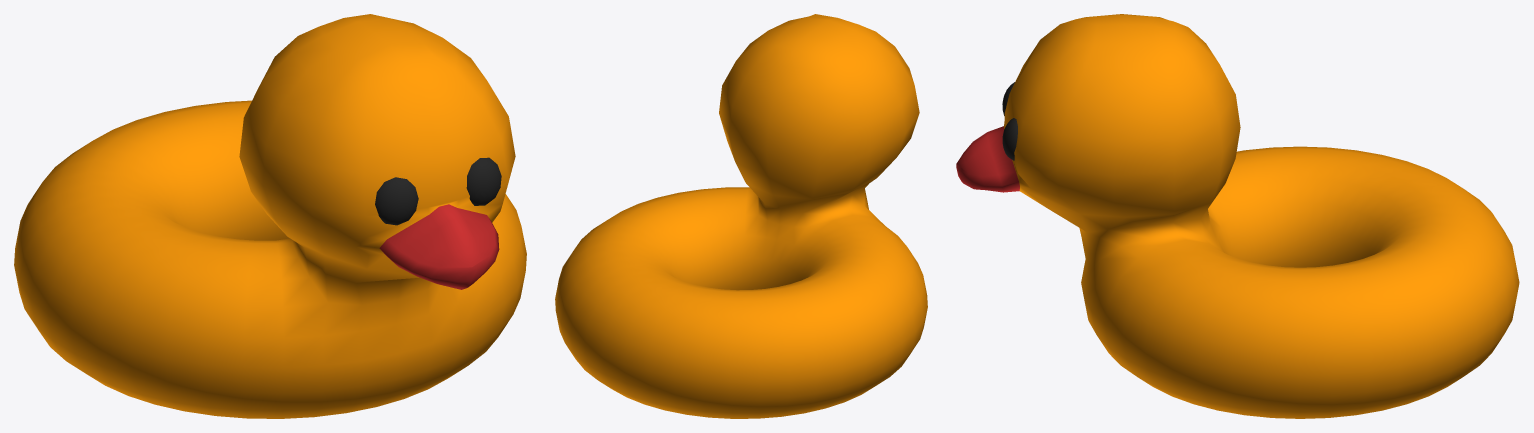
The picture shows the model from 3 angles, left to right: view 1: azimuth 30°, elevation 25°; view 2: azimuth 150°, elevation 25°; view 3: azimuth 270°, elevation 25°; orthographic projection. The views are drawn at different scales.
Parts seen in each view (by area): view 1: FloatDuck; view 2: FloatDuck; view 3: FloatDuck.
Part boxes in pixels (box(x1,y1,x2,y2)): FloatDuck: box(14, 14, 526, 418); FloatDuck: box(555, 14, 927, 418); FloatDuck: box(956, 14, 1519, 418).
Bounding box in the file's own units: 306 × 251 × 393.
Materials: 1 (1 with a texture image).
